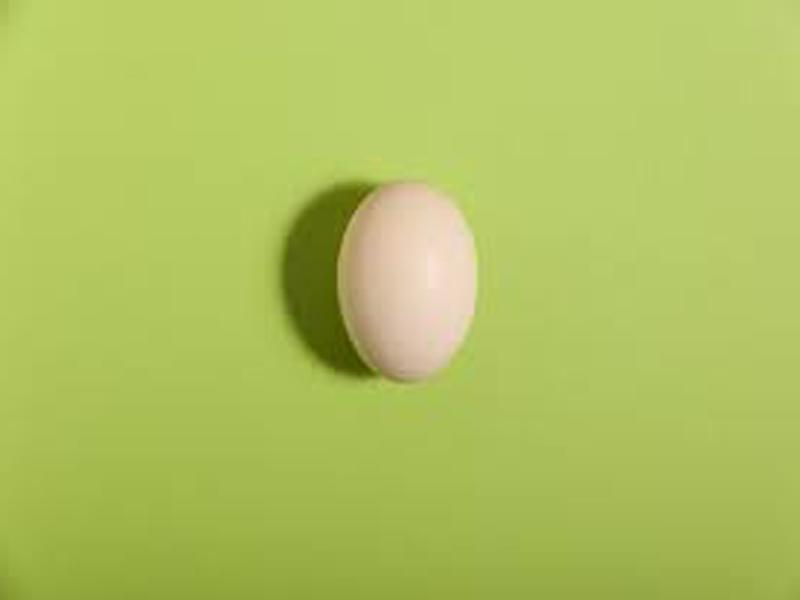Eggs: (336, 180, 473, 387)
